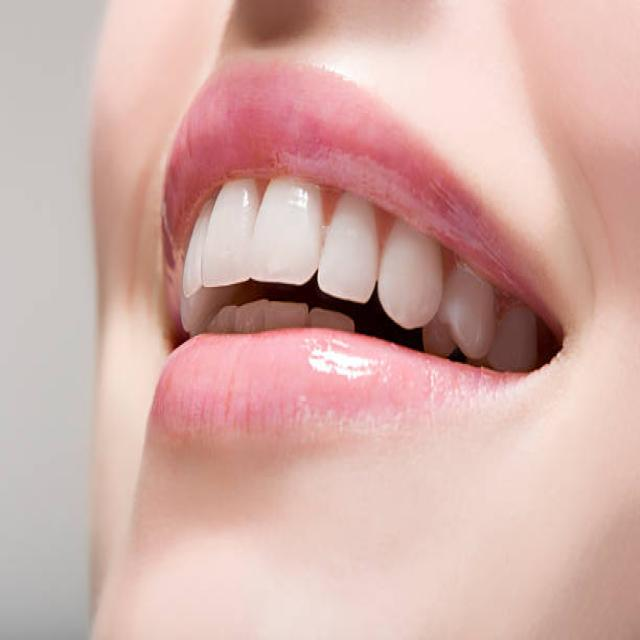tooth: (385, 220, 439, 331), (257, 185, 314, 281), (326, 201, 376, 303), (444, 259, 494, 361), (214, 185, 249, 281), (495, 307, 531, 368), (185, 215, 210, 292), (240, 302, 266, 330), (269, 306, 305, 326), (215, 307, 242, 331)
